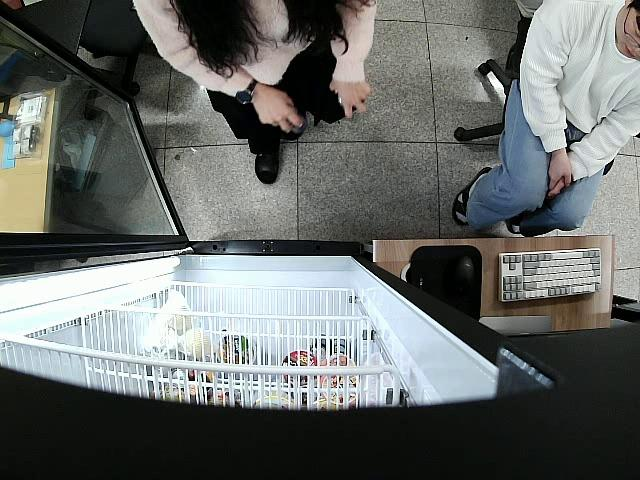00_hand: (255, 85, 305, 137), (330, 77, 371, 118)
